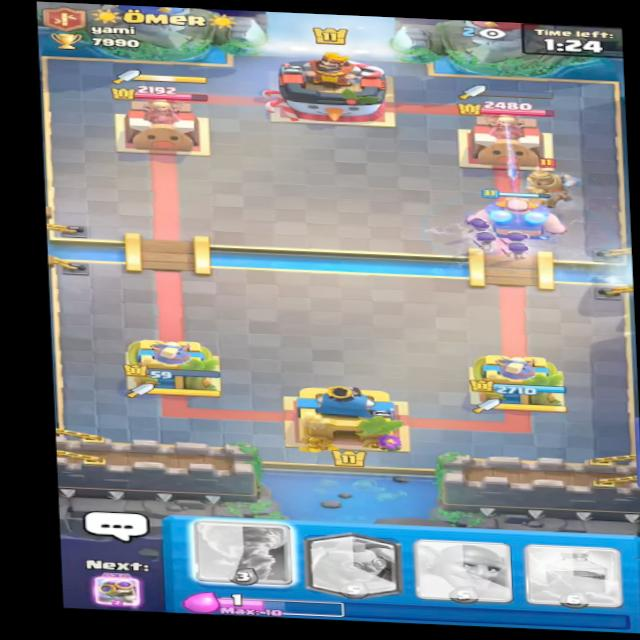Prince: (513, 159, 581, 216)
